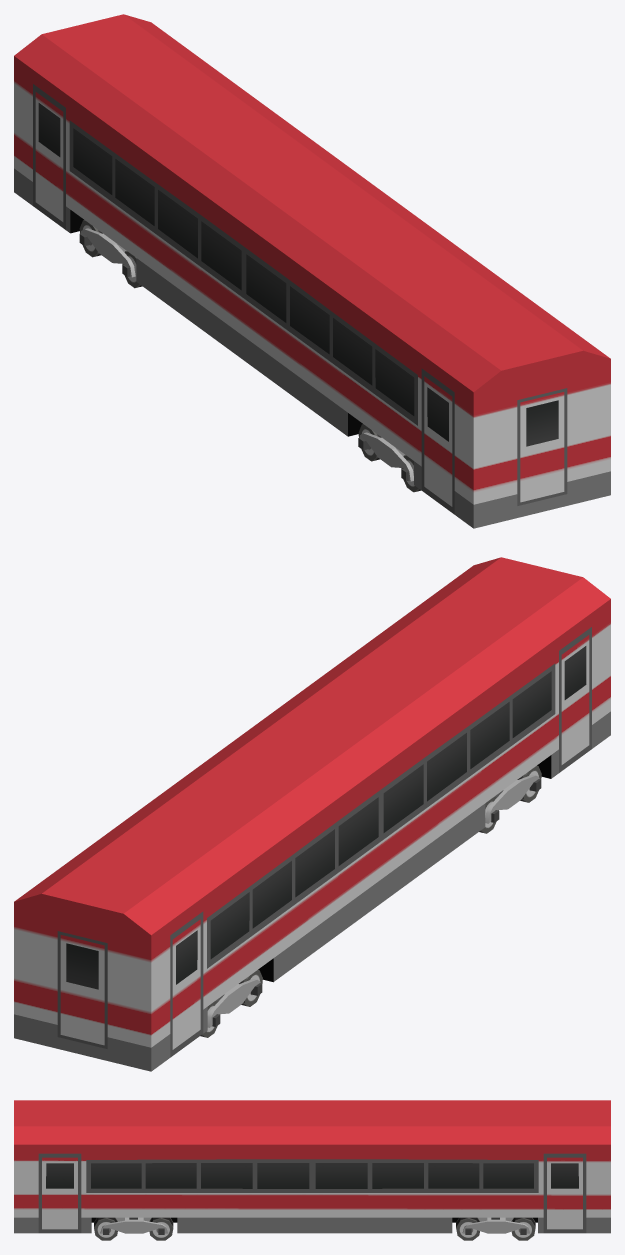
Rendered from TrainBCartPassager.fbx.
3 renders of one model, top to bottom at view 1: azimuth 30°, elevation 25°; view 2: azimuth 150°, elevation 25°; view 3: azimuth 270°, elevation 25°, orthographic. The views are drawn at different scales.
Visible parts, largest first — view 1: TrainBCartPassager, TrainWheelBR, TrainWheelFR; view 2: TrainBCartPassager, TrainWheelFR, TrainWheelBR; view 3: TrainBCartPassager, TrainWheelFL, TrainWheelBL, WheelABL, WheelAFL, WheelBFL, WheelBBL.
Part boxes in pixels (x1,y1,x2,y2): TrainBCartPassager: (14,14,610,528); TrainWheelBR: (79,228,135,277); TrainWheelFR: (358,432,413,481); TrainBCartPassager: (14,557,610,1071); TrainWheelFR: (485,774,541,823); TrainWheelBR: (207,979,262,1027); TrainBCartPassager: (14,1100,610,1233); TrainWheelFL: (100,1217,168,1234); TrainWheelBL: (462,1217,530,1234); WheelABL: (456,1217,480,1240); WheelAFL: (94,1217,117,1240); WheelBFL: (149,1217,173,1240); WheelBBL: (511,1217,535,1240).
Size of the model in its own units: 277 by 321 by 1606.
